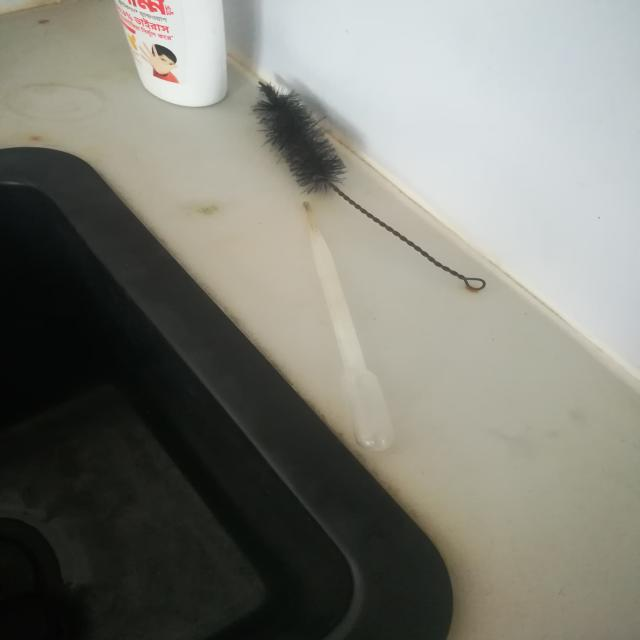Pipette: (274, 181, 424, 481)
